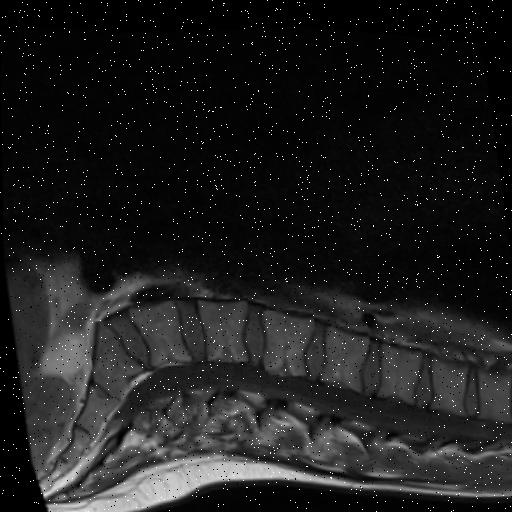L1: (375, 338, 420, 395)
L2: (320, 320, 367, 384)
L3: (262, 305, 313, 371)
L4: (197, 297, 245, 359)
L5: (128, 298, 190, 364)
S1: (90, 319, 143, 396)
